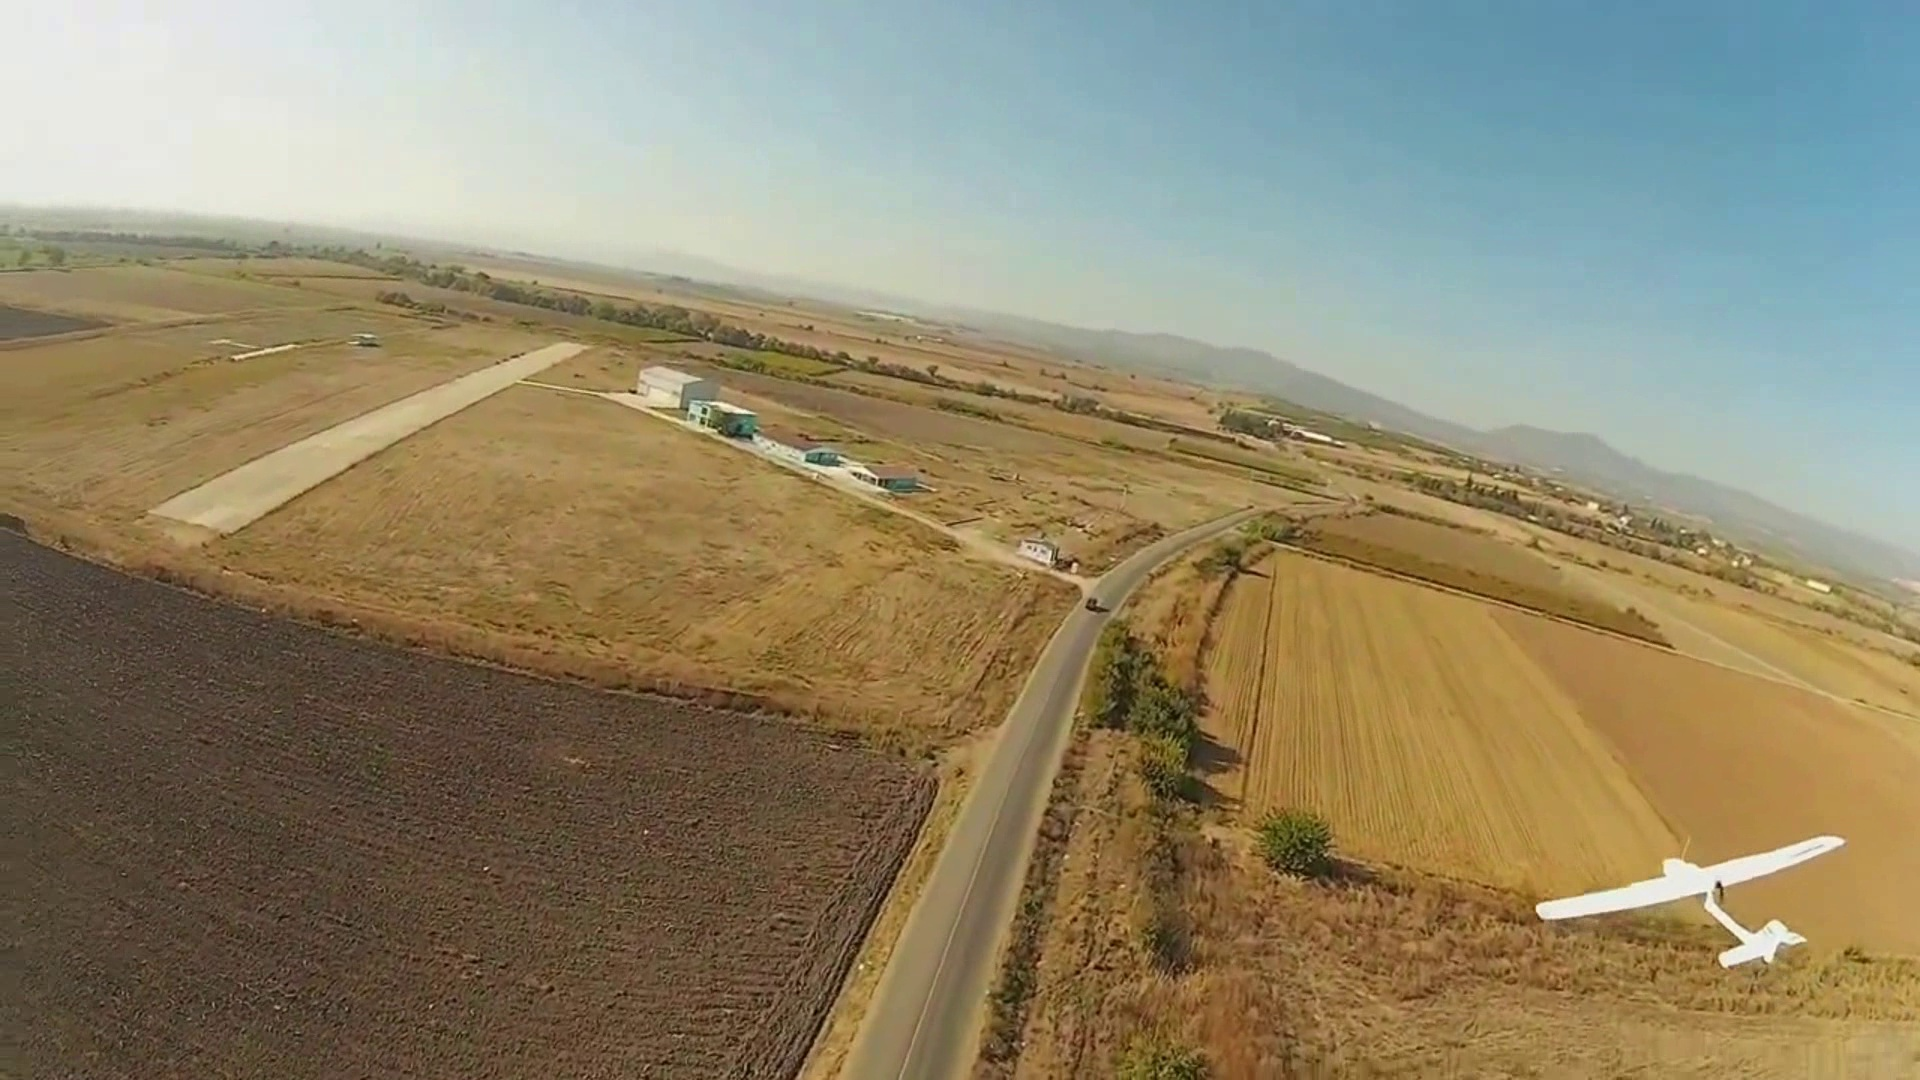airplane: (1537, 831, 1846, 967)
